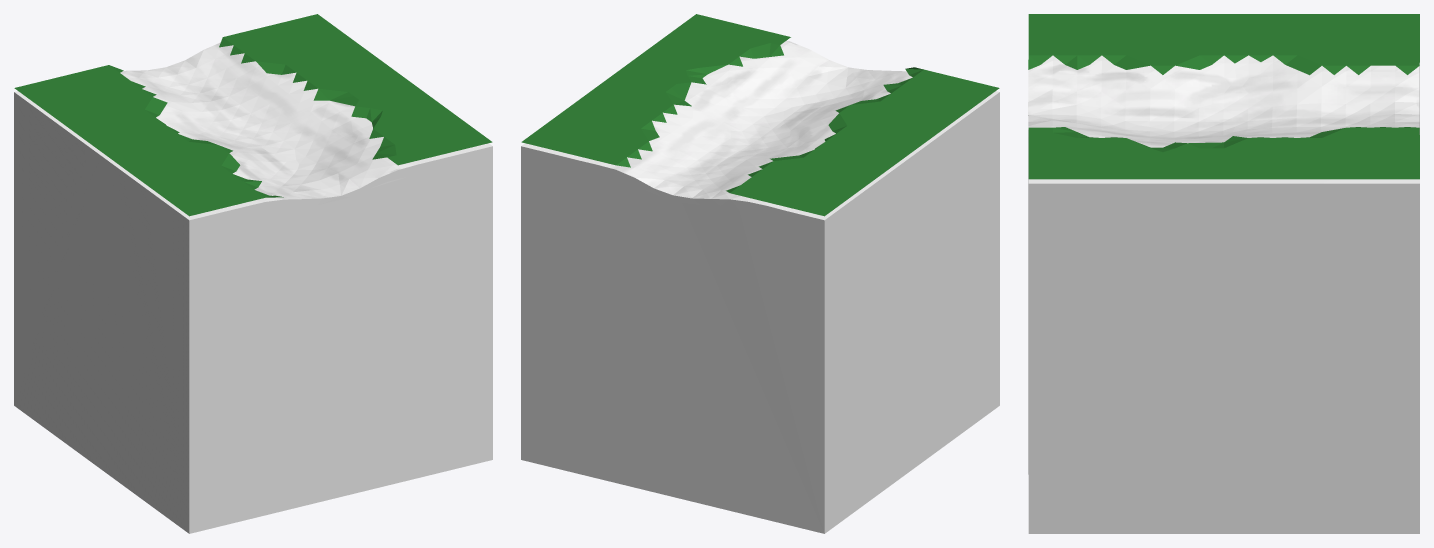
The model's file is PathStraight.glb.
3 renders of one model, left to right at view 1: azimuth 30°, elevation 25°; view 2: azimuth 150°, elevation 25°; view 3: azimuth 270°, elevation 25°, orthographic. The views are drawn at different scales.
Parts seen in each view (by area): view 1: PathStraight, PathStraightGrass; view 2: PathStraight, PathStraightGrass; view 3: PathStraight, PathStraightGrass.
Part boxes in pixels (<box>): PathStraight: <box>14,42,492,533</box>; PathStraightGrass: <box>14,14,492,216</box>; PathStraight: <box>521,40,999,533</box>; PathStraightGrass: <box>521,14,999,216</box>; PathStraight: <box>1028,55,1419,533</box>; PathStraightGrass: <box>1028,14,1419,179</box>.
Bounding box in the file's own units: 2 × 2 × 2.
2 materials, 1 textured.
